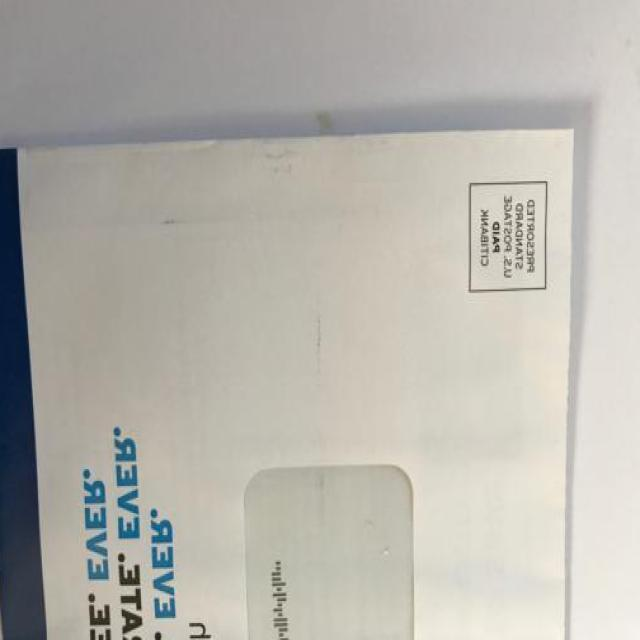kertas: (0, 129, 578, 640)
